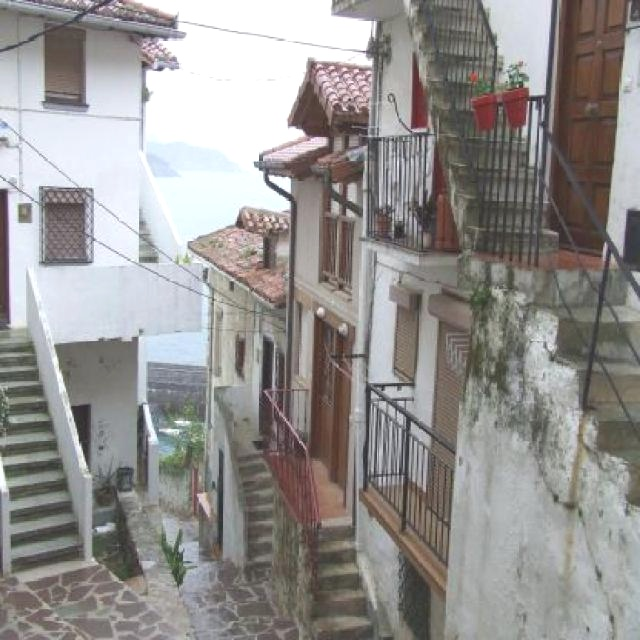stair: (403, 0, 560, 252), (531, 265, 640, 515), (0, 334, 86, 575), (300, 521, 374, 640), (234, 449, 272, 568), (138, 206, 160, 266)
